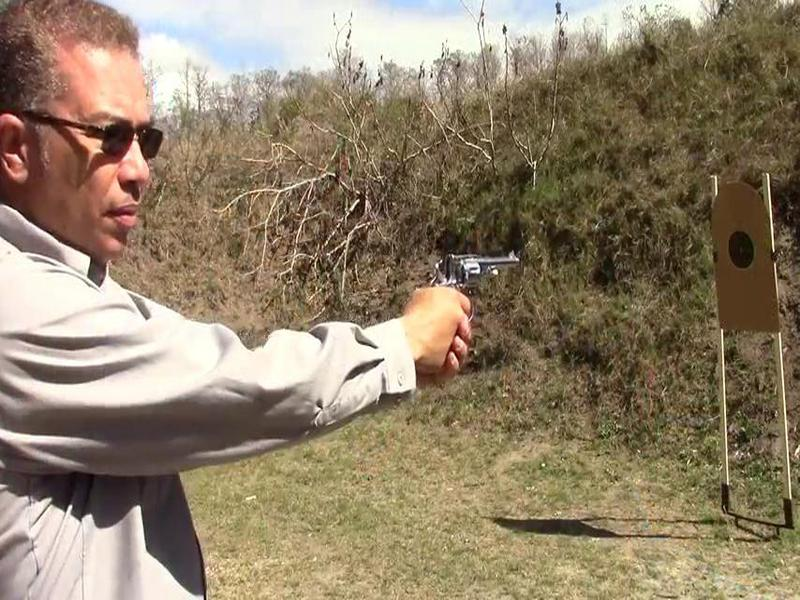Revolver: (427, 249, 526, 324)
